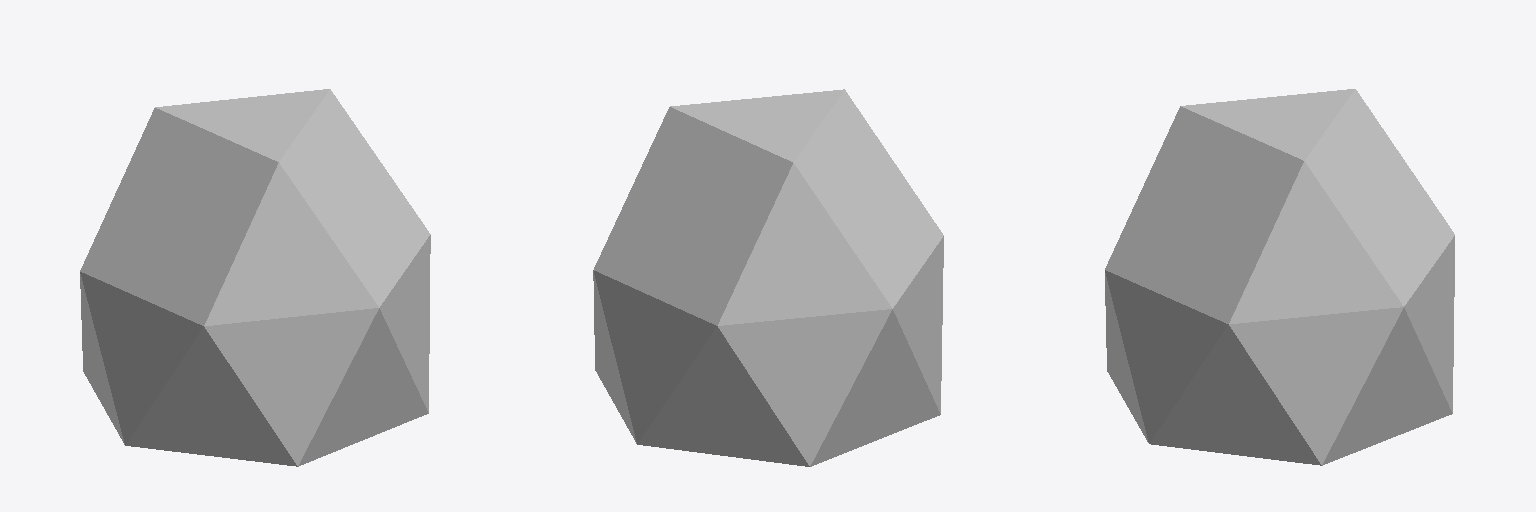
Rendered from GyroElongatedTriangularCupola.obj.
3 views of the same model, side by side, from view 1: azimuth 30°, elevation 25°; view 2: azimuth 150°, elevation 25°; view 3: azimuth 270°, elevation 25° (orthographic).
Parts seen in each view (by area): view 1: GyroElongatedTriangularCupola; view 2: GyroElongatedTriangularCupola; view 3: GyroElongatedTriangularCupola.
Part boxes in pixels (bbox=[...]): GyroElongatedTriangularCupola: bbox=[80, 89, 430, 466]; GyroElongatedTriangularCupola: bbox=[593, 89, 943, 466]; GyroElongatedTriangularCupola: bbox=[1105, 89, 1454, 465].
Size of the model in its own units: 1.46 by 1.26 by 1.46.